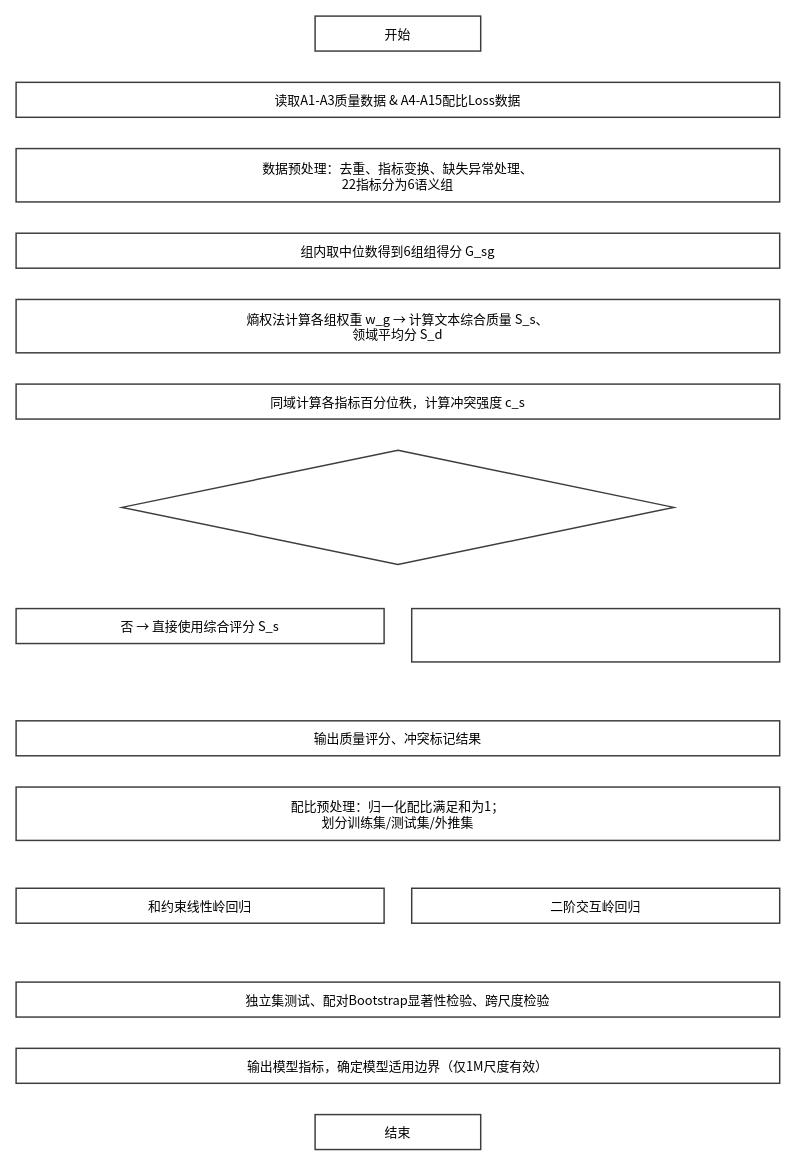
Some shapes in this 797 by 1167 pixel diagram are drawn without their labels. Each missing label, with the box of its shape:
c_s ≥ δ ( 90%分位数 ): (121, 449, 674, 565)
是 → 计算稳健秩评分 S_s*， 标记冲突样本: (411, 607, 780, 662)
